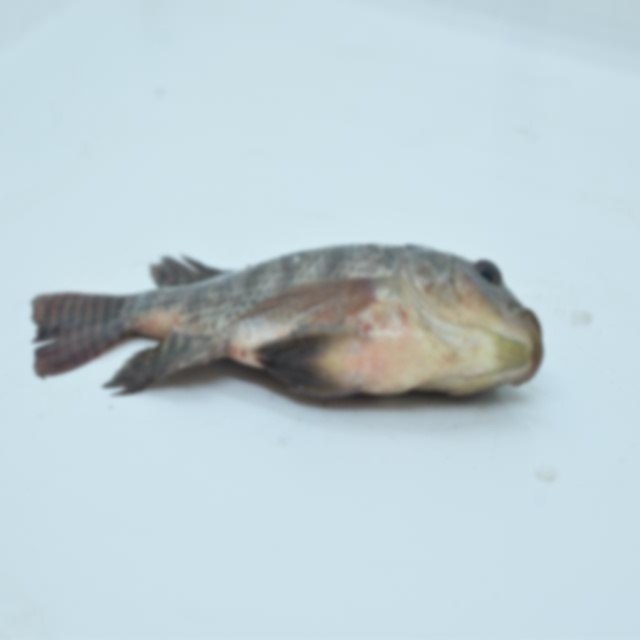Columnaris Disease: (17, 230, 598, 448)
